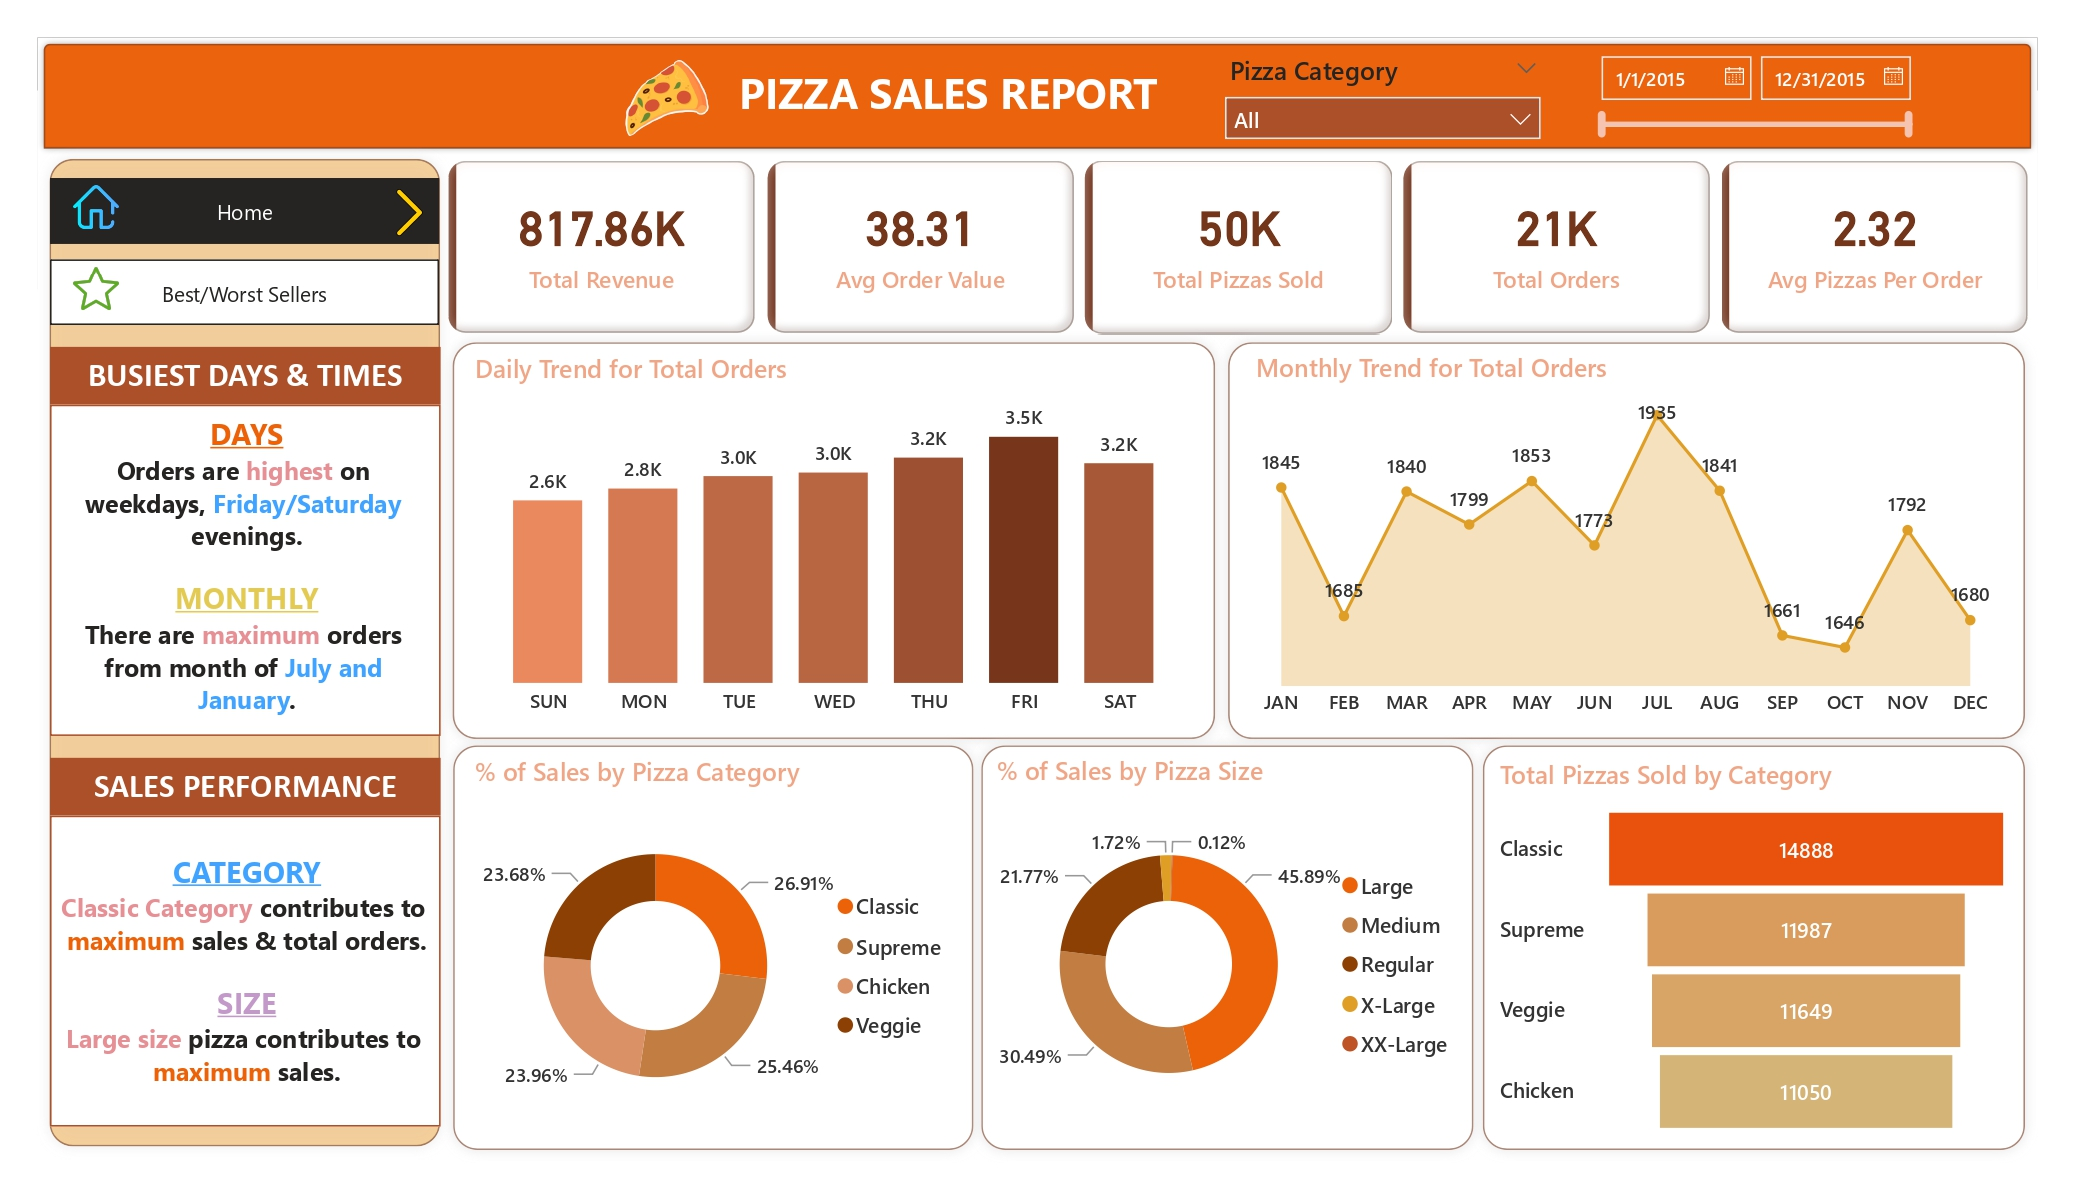

This screenshot's page, from the dashboard's own definition file:
{"tool":"powerbi","page":{"name":"Home","canvas":[1280,720],"ordinal":0},"visuals":[{"type":"cardVisual","fields":{"Data":["pizza sales.Total Revenue"]},"box":[258.1,73.7,206.3,120.5],"z":0,"group":"g1"},{"type":"group","id":"g1","title":"Group 1","box":[258.1,73.6,1021.5,120.6],"z":0},{"type":"cardVisual","fields":{"Data":["pizza sales.Avg Order Value"]},"box":[461.8,73.9,206.3,120.5],"z":1000,"group":"g1"},{"type":"shape","box":[258.1,186.9,504.1,270.2],"z":1000},{"type":"cardVisual","fields":{"Data":["pizza sales.Total Pizzas Sold"]},"box":[665.3,73.6,207.4,121.8],"z":2000,"group":"g1"},{"type":"columnChart","title":"Daily Trend for Total Orders","fields":{"Y":["pizza sales.Total Orders"],"Category":["pizza sales.Order Day"]},"box":[275,201.4,470.4,241.2],"z":2000},{"type":"cardVisual","fields":{"Data":["pizza sales.Total Orders"]},"box":[869.5,73.9,206.3,120.5],"z":3000,"group":"g1"},{"type":"shape","box":[753.8,186.9,525.8,270.2],"z":3000},{"type":"cardVisual","fields":{"Data":["pizza sales.Avg Pizzas Per Order"]},"box":[1073.3,73.9,206.3,120.5],"z":4000,"group":"g1"},{"type":"areaChart","title":"Monthly Trend for Total Orders","fields":{"Y":["pizza sales.Total Orders"],"Category":["pizza sales.Order Month"]},"box":[775.5,200.2,482.4,243.6],"z":4000},{"type":"shape","box":[0,0,1279.6,75],"z":5000},{"type":"shape","box":[258.1,445,348.5,275],"z":6000},{"type":"donutChart","title":"% of Sales by Pizza Category","fields":{"Category":["pizza sales.pizza_category"],"Y":["pizza sales.Total Revenue"]},"box":[275,459.5,317.2,247.2],"z":7000},{"type":"shape","box":[595.8,445,331.7,275],"z":8000},{"type":"donutChart","title":"% of Sales by Pizza Size","fields":{"Y":["pizza sales.Total Revenue"],"Category":["pizza sales.pizza_size"]},"box":[609,458.3,307.5,247.2],"z":9000},{"type":"shape","box":[916.6,445,363,275],"z":10000},{"type":"funnel","title":"Total Pizzas Sold by Category","fields":{"Category":["pizza sales.pizza_category"],"Y":["pizza sales.Total Pizzas Sold"]},"box":[931.1,460.7,336.5,247.2],"z":11000},{"type":"shape","box":[0,69.9,266,648],"z":12000},{"type":"textbox","box":[8.4,198,249.6,37.4],"z":13000},{"type":"textbox","box":[8.4,235,249.6,212.3],"z":14000},{"type":"textbox","box":[8.4,460.7,249.6,37.4],"z":15000},{"type":"textbox","box":[8.4,498.1,249.6,199],"z":16000},{"type":"slicer","fields":{"Values":["pizza sales.pizza_category"]},"box":[750.2,4.8,221.9,66.3],"z":17000},{"type":"slicer","fields":{"Values":["pizza sales.order_date"]},"box":[987.7,2.4,225,71.2],"z":18000},{"type":"image","box":[336.5,0,137.5,82],"z":19000},{"type":"textbox","box":[433,12.1,300.3,49.4],"z":20000},{"type":"pageNavigator","box":[8.4,90.5,249.6,42],"z":21000},{"type":"pageNavigator","box":[8,142,249.6,42.2],"z":22000},{"type":"image","box":[218.3,92,39.8,39.8],"z":23000},{"type":"image","box":[18.1,89.2,39,39],"z":24000},{"type":"image","box":[18.1,141.1,39,39],"z":25000}]}

Visuals, with their boxes in screenshot pixels (x1, y1, x2, y2):
cardVisual - pizza sales.Total Revenue: detection(441, 153, 763, 341)
"Group 1" group: detection(441, 152, 2037, 341)
cardVisual - pizza sales.Avg Order Value: detection(759, 153, 1081, 341)
shape: detection(441, 330, 1228, 752)
cardVisual - pizza sales.Total Pizzas Sold: detection(1077, 152, 1401, 343)
"Daily Trend for Total Orders" columnChart: detection(467, 352, 1202, 729)
cardVisual - pizza sales.Total Orders: detection(1396, 153, 1718, 341)
shape: detection(1215, 330, 2037, 752)
cardVisual - pizza sales.Avg Pizzas Per Order: detection(1715, 153, 2037, 341)
"Monthly Trend for Total Orders" areaChart: detection(1249, 350, 2003, 731)
shape: detection(38, 38, 2037, 155)
shape: detection(441, 733, 985, 1162)
"% of Sales by Pizza Category" donutChart: detection(467, 755, 963, 1142)
shape: detection(968, 733, 1487, 1162)
"% of Sales by Pizza Size" donutChart: detection(989, 754, 1470, 1140)
shape: detection(1470, 733, 2037, 1162)
"Total Pizzas Sold by Category" funnel: detection(1492, 757, 2018, 1144)
shape: detection(38, 147, 453, 1159)
textbox: detection(51, 347, 441, 405)
textbox: detection(51, 405, 441, 736)
textbox: detection(51, 757, 441, 816)
textbox: detection(51, 816, 441, 1127)
slicer - pizza sales.pizza_category: detection(1210, 45, 1556, 149)
slicer - pizza sales.order_date: detection(1581, 41, 1932, 152)
image: detection(563, 38, 778, 166)
textbox: detection(714, 56, 1183, 134)
pageNavigator: detection(51, 179, 441, 245)
pageNavigator: detection(50, 259, 440, 325)
image: detection(379, 181, 441, 243)
image: detection(66, 177, 127, 238)
image: detection(66, 258, 127, 319)
